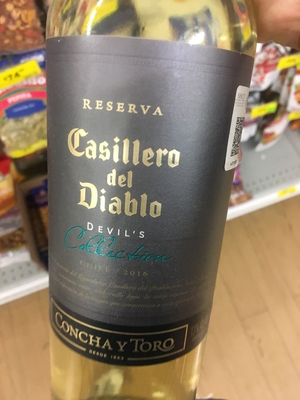casillero del diablo devils collection verde: (45, 8, 251, 400)
